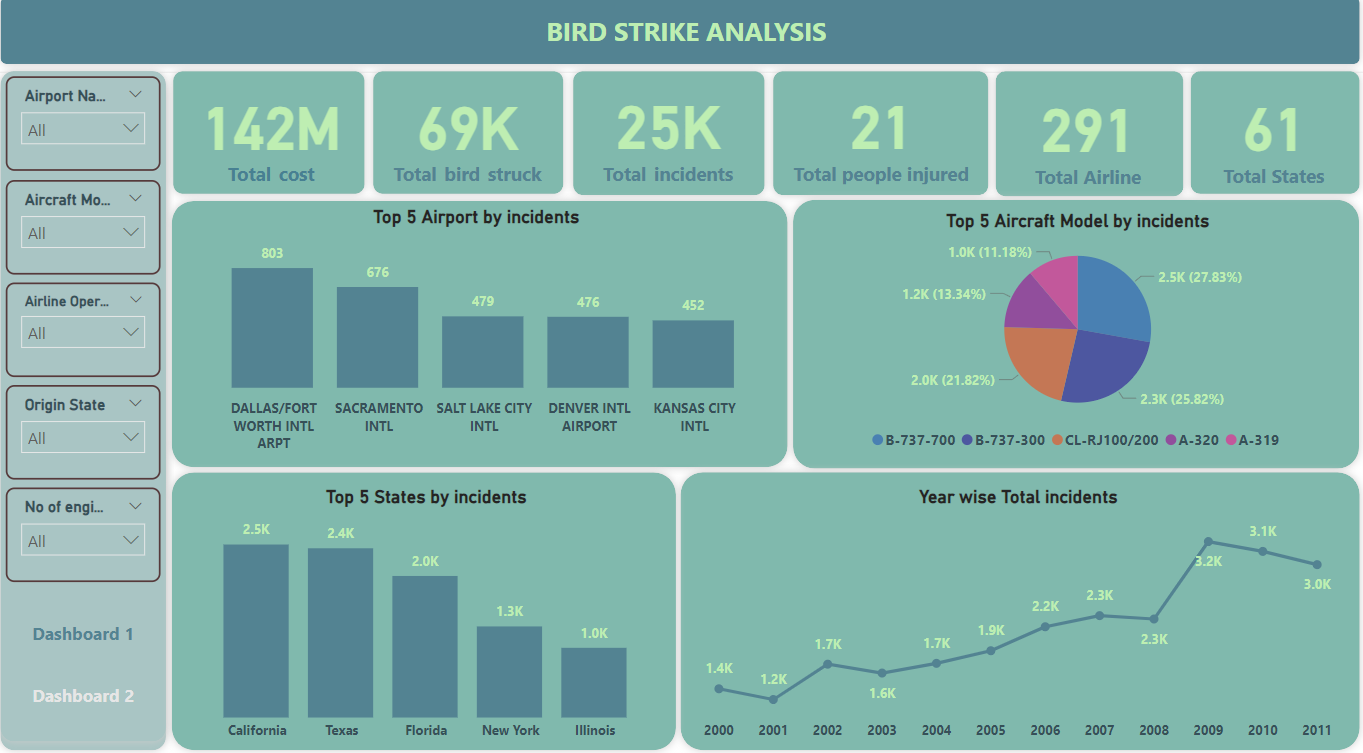

The page's visual inventory and layout, read from the dashboard file:
{"tool":"powerbi","page":{"name":"Dashboard 1","canvas":[1280,720],"ordinal":2},"visuals":[{"type":"shape","box":[0,80.2,169.8,639.5],"z":0},{"type":"shape","box":[0,3.5,1280.2,77.9],"z":1000},{"type":"textbox","box":[32.6,22.1,1226.7,50],"z":2000},{"type":"shape","box":[160.5,72.1,194.2,130.2],"z":3000},{"type":"shape","box":[346.5,72.1,193,130.2],"z":4000},{"type":"shape","box":[532.6,72.1,194.2,131.4],"z":5000},{"type":"shape","box":[718.6,72.1,216.3,131.4],"z":6000},{"type":"card","fields":{"Values":["bird_strike_final.Total_bird_struck"]},"box":[360.5,87.2,164,101.2],"z":7000},{"type":"card","fields":{"Values":["bird_strike_final.Total_cost"]},"box":[174.2,87.1,170.9,101.2],"z":8000},{"type":"card","fields":{"Values":["bird_strike_final.Total_injured"]},"box":[733.7,83.7,187.2,107],"z":9000},{"type":"shape","box":[925.6,72.1,190.7,132.6],"z":10000},{"type":"card","fields":{"Values":["bird_strike_final.Airline_count"]},"box":[932.6,87.2,174.4,105.8],"z":11000},{"type":"card","fields":{"Values":["bird_strike_final.Total_incidents"]},"box":[539.5,86,179.1,102.3],"z":12000},{"type":"shape","box":[0,72.1,169.8,639.5],"z":13000},{"type":"shape","box":[159.7,193.6,588.8,263.5],"z":14000},{"type":"columnChart","title":"Top 5 Airport by incidents","fields":{"Category":["bird_strike_final.Airport_Name"],"Y":["bird_strike_final.Total_incidents"]},"box":[164,205.8,573.3,236],"z":15000},{"type":"shape","box":[737,191.4,542.5,266],"z":16000},{"type":"pieChart","title":"Top 5 Aircraft Model by incidents ","fields":{"Category":["bird_strike_final.Aircraft_Model"],"Y":["bird_strike_final.Total_incidents"]},"box":[754.7,209.1,511,232.4],"z":17000},{"type":"shape","box":[632.6,445.4,647.7,274.4],"z":18000},{"type":"lineChart","title":"Year wise Total incidents ","fields":{"Category":["bird_strike_final.Year"],"Y":["bird_strike_final.Total_incidents"]},"box":[651.2,466.3,607,245.3],"z":19000},{"type":"shape","box":[159.3,445.4,484.9,274.4],"z":20000},{"type":"columnChart","title":"Top 5 States by incidents","fields":{"Category":["bird_strike_final.Origin_State"],"Y":["bird_strike_final.Total_incidents"]},"box":[179.1,466.3,450,245.3],"z":21000},{"type":"slicer","fields":{"Values":["bird_strike_final.Airport_Name"]},"box":[12.8,84.9,144.2,88.4],"z":22000},{"type":"slicer","fields":{"Values":["bird_strike_final.Aircraft_Model"]},"box":[12.8,181.4,144.2,88.4],"z":23000},{"type":"slicer","fields":{"Values":["bird_strike_final.Airline_Operator"]},"box":[12.8,276.7,144.2,88.4],"z":24000},{"type":"slicer","fields":{"Values":["bird_strike_final.Origin_State"]},"box":[12.8,372.1,144.2,88.4],"z":25000},{"type":"slicer","fields":{"Values":["bird_strike_final.Number_of_engines"]},"box":[12.8,467.4,144.2,88.4],"z":26000},{"type":"shape","box":[1106.7,72.1,173.3,130.2],"z":27000},{"type":"card","fields":{"Values":["bird_strike_final.Total States"]},"box":[1118.6,81.4,147.7,115.1],"z":28000},{"type":"actionButton","box":[12.8,582.6,144.2,39.5],"z":29000},{"type":"actionButton","box":[12.8,640.7,144.2,39.5],"z":30000}]}

Visuals, with their boxes in screenshot pixels (x1, y1, x2, y2), scaled from the page's 1280x720 canvas onto the 1363x753 screenshot:
shape: select_region(0, 84, 181, 752)
shape: select_region(0, 4, 1362, 85)
textbox: select_region(35, 23, 1341, 75)
shape: select_region(171, 75, 378, 212)
shape: select_region(369, 75, 574, 212)
shape: select_region(567, 75, 774, 213)
shape: select_region(765, 75, 996, 213)
card - bird_strike_final.Total_bird_struck: select_region(384, 91, 559, 197)
card - bird_strike_final.Total_cost: select_region(185, 91, 367, 197)
card - bird_strike_final.Total_injured: select_region(781, 88, 981, 199)
shape: select_region(986, 75, 1189, 214)
card - bird_strike_final.Airline_count: select_region(993, 91, 1179, 202)
card - bird_strike_final.Total_incidents: select_region(574, 90, 765, 197)
shape: select_region(0, 75, 181, 744)
shape: select_region(170, 202, 797, 478)
"Top 5 Airport by incidents" columnChart: select_region(175, 215, 785, 462)
shape: select_region(785, 200, 1362, 478)
"Top 5 Aircraft Model by incidents " pieChart: select_region(804, 219, 1348, 462)
shape: select_region(674, 466, 1362, 752)
"Year wise Total incidents " lineChart: select_region(693, 488, 1340, 744)
shape: select_region(170, 466, 686, 752)
"Top 5 States by incidents" columnChart: select_region(191, 488, 670, 744)
slicer - bird_strike_final.Airport_Name: select_region(14, 89, 167, 181)
slicer - bird_strike_final.Aircraft_Model: select_region(14, 190, 167, 282)
slicer - bird_strike_final.Airline_Operator: select_region(14, 289, 167, 382)
slicer - bird_strike_final.Origin_State: select_region(14, 389, 167, 482)
slicer - bird_strike_final.Number_of_engines: select_region(14, 489, 167, 581)
shape: select_region(1178, 75, 1362, 212)
card - bird_strike_final.Total States: select_region(1191, 85, 1348, 206)
actionButton: select_region(14, 609, 167, 651)
actionButton: select_region(14, 670, 167, 711)
